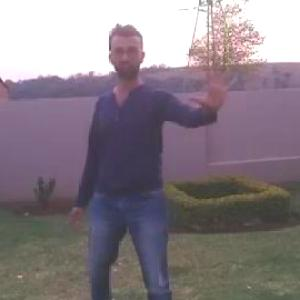follow_hand: (189, 60, 238, 114)
